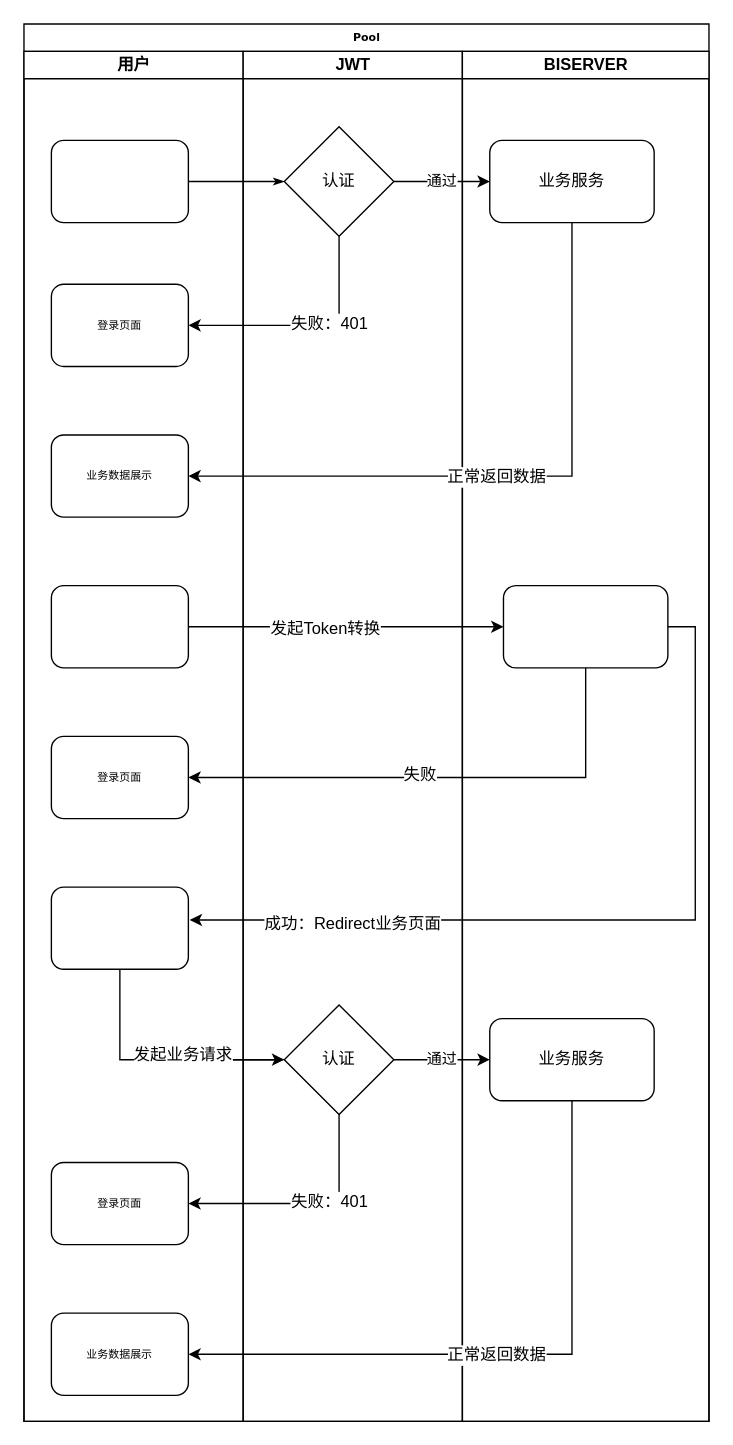
The diagram is 733 pixels wide and 1445 high, and some of its shapes have lost their labels. The shapes that lost their labels are listed below. From the top down, each one's centre as x and y in pixels, then its label:
the point at 119,181: 平台用户
the point at 119,626: 非平台用户
the point at 585,626: Token转换
the point at 119,927: 业务页面
